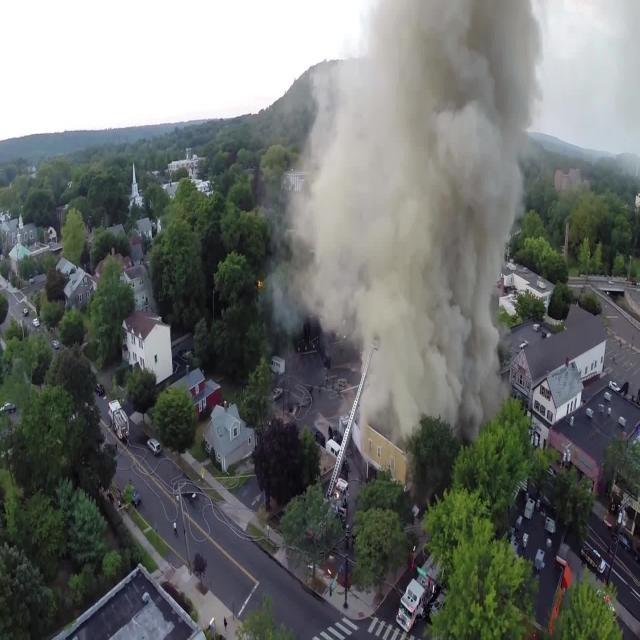smoke: (365, 0, 516, 425), (302, 71, 362, 334)
